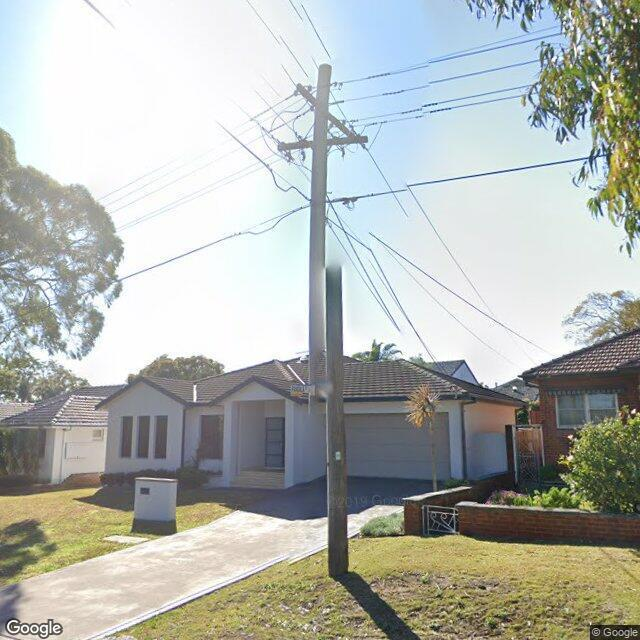crossarm: (296, 84, 356, 138), (277, 135, 368, 153)
timber-pole: (308, 63, 350, 581)
